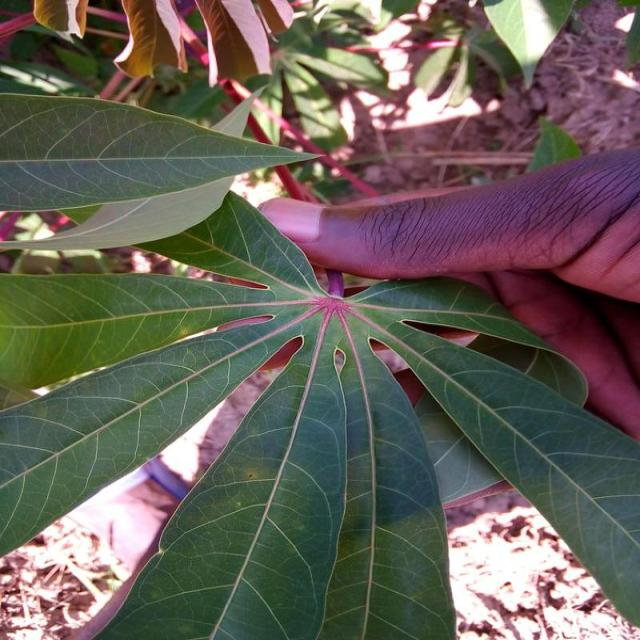cassava leaf: (2, 90, 639, 636), (1, 90, 321, 250)
